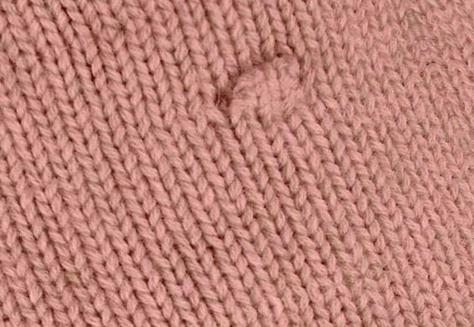knot: (212, 49, 311, 119)
